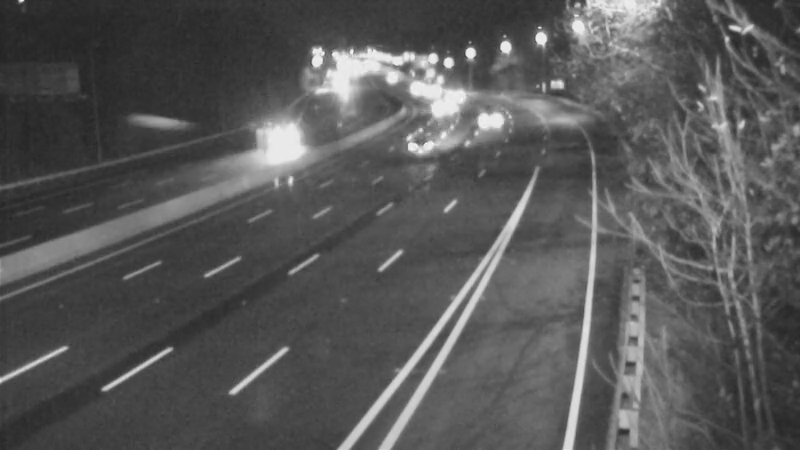vehicle: (379, 111, 459, 191), (364, 52, 414, 102), (389, 60, 439, 110), (408, 66, 458, 116), (432, 73, 482, 123), (416, 83, 466, 133), (471, 95, 521, 145), (260, 119, 310, 169)
